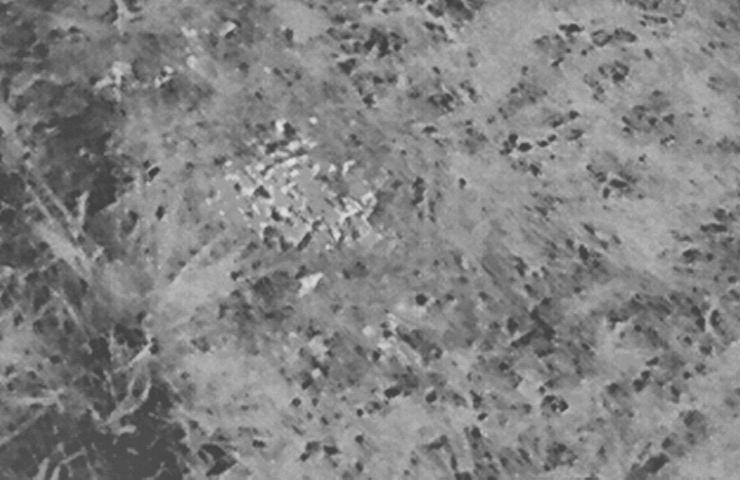landmines: (232, 138, 381, 264)
